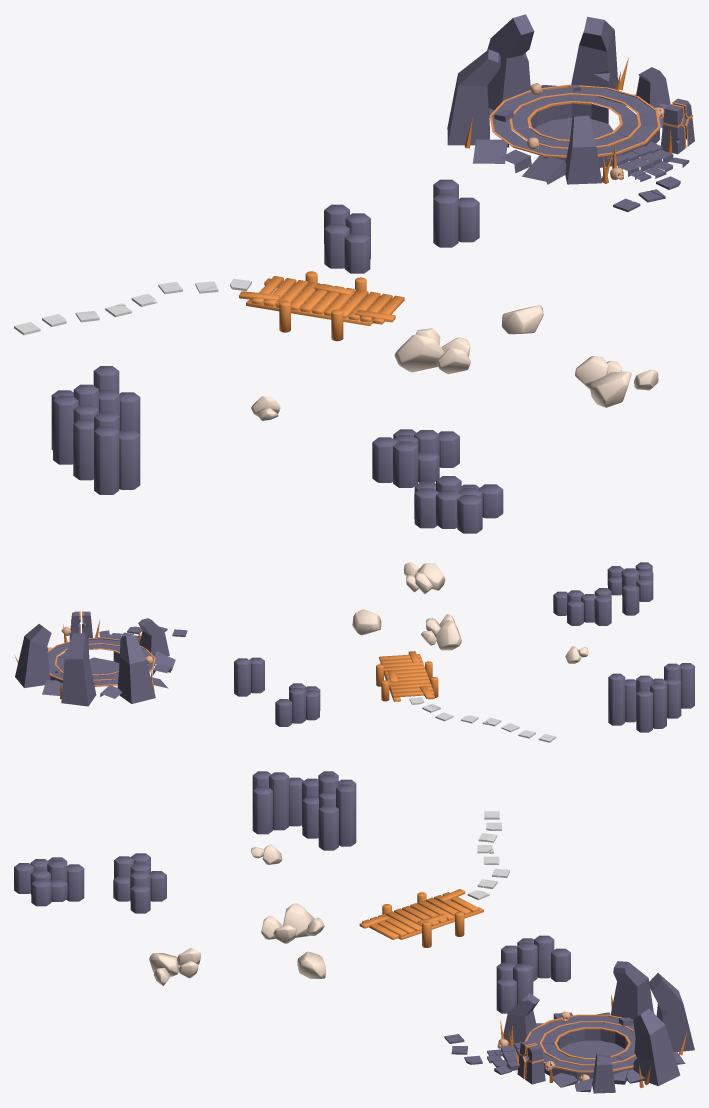
File: sceneryStaticVisual.glb
3 renders of one model, top to bottom at view 1: azimuth 30°, elevation 25°; view 2: azimuth 150°, elevation 25°; view 3: azimuth 270°, elevation 25°, orthographic. The views are drawn at different scales.
Parts seen in each view (by area): view 1: Cylinder.022, Cube.172, Cylinder.021, Cube.139, Cube.173, Cylinder.024, Cube.147, Cube.122, Cube.185, Cube.129, Cube.124; view 2: Cylinder.022, Cube.172, Cube.139, Cylinder.021, Cube.173, Cube.147, Cube.122, Cube.124, Cylinder.024, Cube.185, Cube.129; view 3: Cylinder.022, Cube.172, Cylinder.021, Cube.139, Cylinder.024, Cube.173, Cube.147, Cube.185, Cube.122, Cube.124, Cube.129.
Part boxes in pixels (bbox=[...]): Cylinder.022: bbox=[51, 179, 503, 533]; Cube.172: bbox=[447, 14, 670, 184]; Cylinder.021: bbox=[492, 87, 689, 181]; Cube.139: bbox=[239, 271, 404, 341]; Cube.173: bbox=[472, 84, 668, 184]; Cylinder.024: bbox=[489, 84, 660, 158]; Cube.147: bbox=[14, 281, 218, 335]; Cube.122: bbox=[394, 334, 444, 372]; Cube.185: bbox=[661, 98, 694, 154]; Cube.129: bbox=[590, 371, 631, 407]; Cube.124: bbox=[501, 305, 543, 334]; Cylinder.022: bbox=[234, 562, 694, 732]; Cube.172: bbox=[15, 618, 169, 706]; Cube.139: bbox=[376, 651, 438, 701]; Cylinder.021: bbox=[47, 630, 155, 685]; Cube.173: bbox=[42, 651, 175, 698]; Cube.147: bbox=[422, 703, 556, 742]; Cube.122: bbox=[435, 620, 461, 650]; Cube.124: bbox=[352, 609, 381, 635]; Cylinder.024: bbox=[47, 637, 155, 686]; Cube.185: bbox=[69, 611, 92, 640]; Cube.129: bbox=[417, 563, 445, 590]; Cylinder.022: bbox=[14, 771, 570, 1013]; Cube.172: bbox=[503, 961, 694, 1093]; Cylinder.021: bbox=[487, 1016, 637, 1081]; Cube.139: bbox=[359, 889, 483, 947]; Cylinder.024: bbox=[525, 1014, 635, 1072]; Cube.173: bbox=[536, 1012, 685, 1092]; Cube.147: bbox=[477, 811, 509, 888]; Cube.185: bbox=[517, 1040, 545, 1084]; Cube.122: bbox=[283, 903, 314, 937]; Cube.124: bbox=[297, 951, 325, 978]; Cube.129: bbox=[149, 953, 179, 976].
Bounding box in the file's own units: 51.63 × 8.2 × 48.62.
